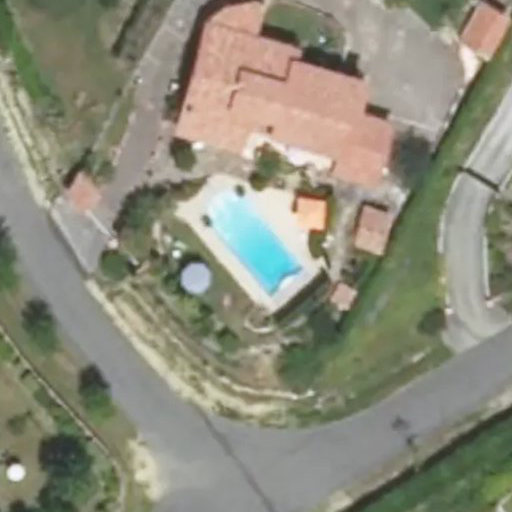pool: (196, 211, 305, 261)
